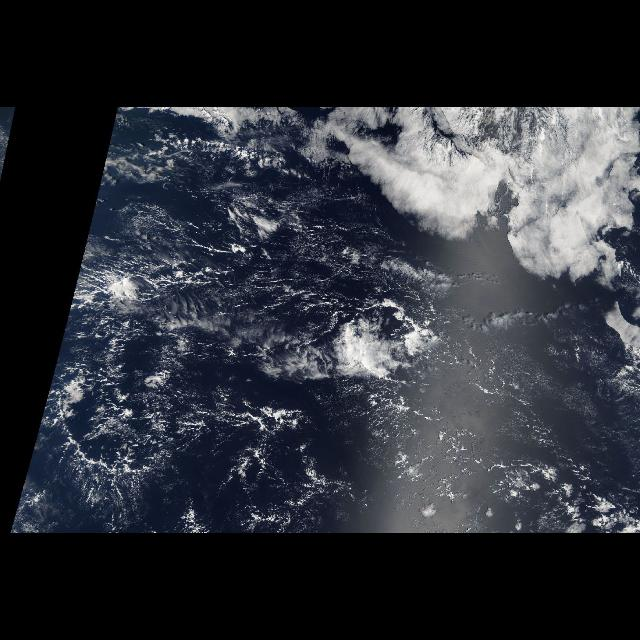Gravel: (66, 151, 624, 529)
Sugar: (396, 359, 632, 511)
